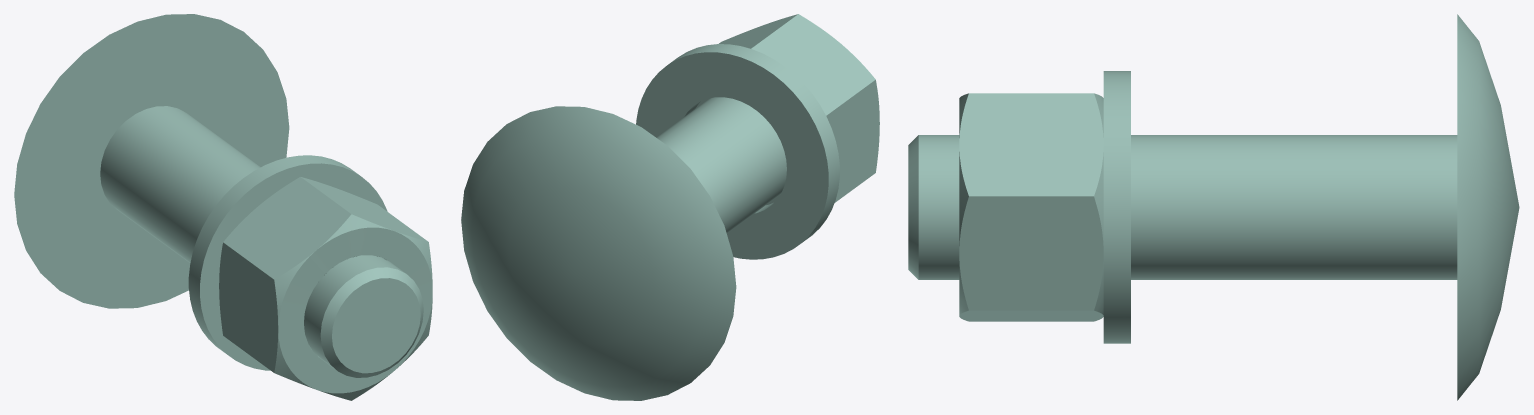
File: Screw_Nut.gltf
3 views of the same model, side by side, from view 1: azimuth 30°, elevation 25°; view 2: azimuth 150°, elevation 25°; view 3: azimuth 270°, elevation 25° (orthographic). The views are drawn at different scales.
Visible parts, largest first — view 1: Object_57.005, bolts1.002, Object_57.002; view 2: Object_57.005, Object_57.002, bolts1.002; view 3: Object_57.005, bolts1.002, Object_57.002.
Boxes of the visible parts, bbox=[...] form: Object_57.005: bbox=[14, 14, 423, 377]; bolts1.002: bbox=[219, 177, 432, 400]; Object_57.002: bbox=[188, 155, 387, 370]; Object_57.005: bbox=[461, 97, 786, 400]; Object_57.002: bbox=[636, 44, 839, 259]; bolts1.002: bbox=[695, 14, 879, 205]; Object_57.005: bbox=[908, 14, 1519, 400]; bolts1.002: bbox=[959, 93, 1103, 321]; Object_57.002: bbox=[1103, 71, 1130, 343].
Bounding box in the file's own units: 0.9934 × 0.988 × 1.56.
